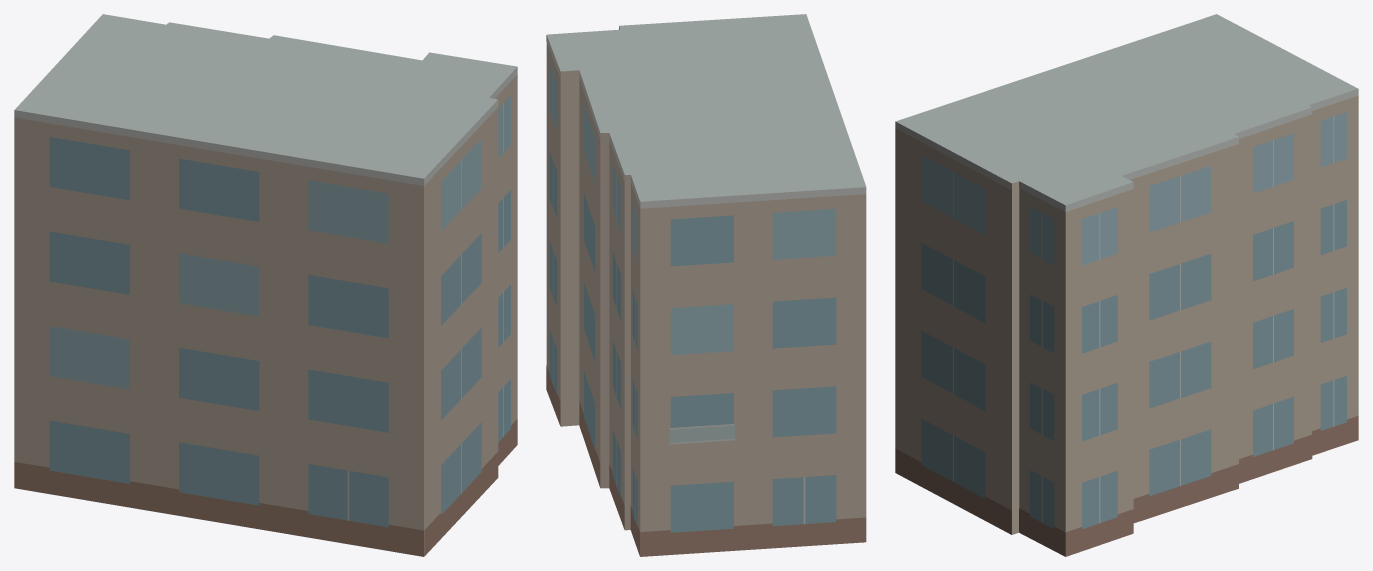
File: survey-upis-32643809.glb
3 renders of one model, left to right at view 1: azimuth 30°, elevation 25°; view 2: azimuth 150°, elevation 25°; view 3: azimuth 270°, elevation 25°, orthographic. The views are drawn at different scales.
Parts seen in each view (by area): view 1: survey-upis-32643809.tmp; view 2: survey-upis-32643809.tmp; view 3: survey-upis-32643809.tmp.
Part boxes in pixels (left/top/right/bottom): survey-upis-32643809.tmp: left=14, top=14, right=517, bottom=556; survey-upis-32643809.tmp: left=546, top=14, right=866, bottom=556; survey-upis-32643809.tmp: left=895, top=14, right=1358, bottom=556.
Bounding box in the file's own units: 14.61 × 12.5 × 14.93.
